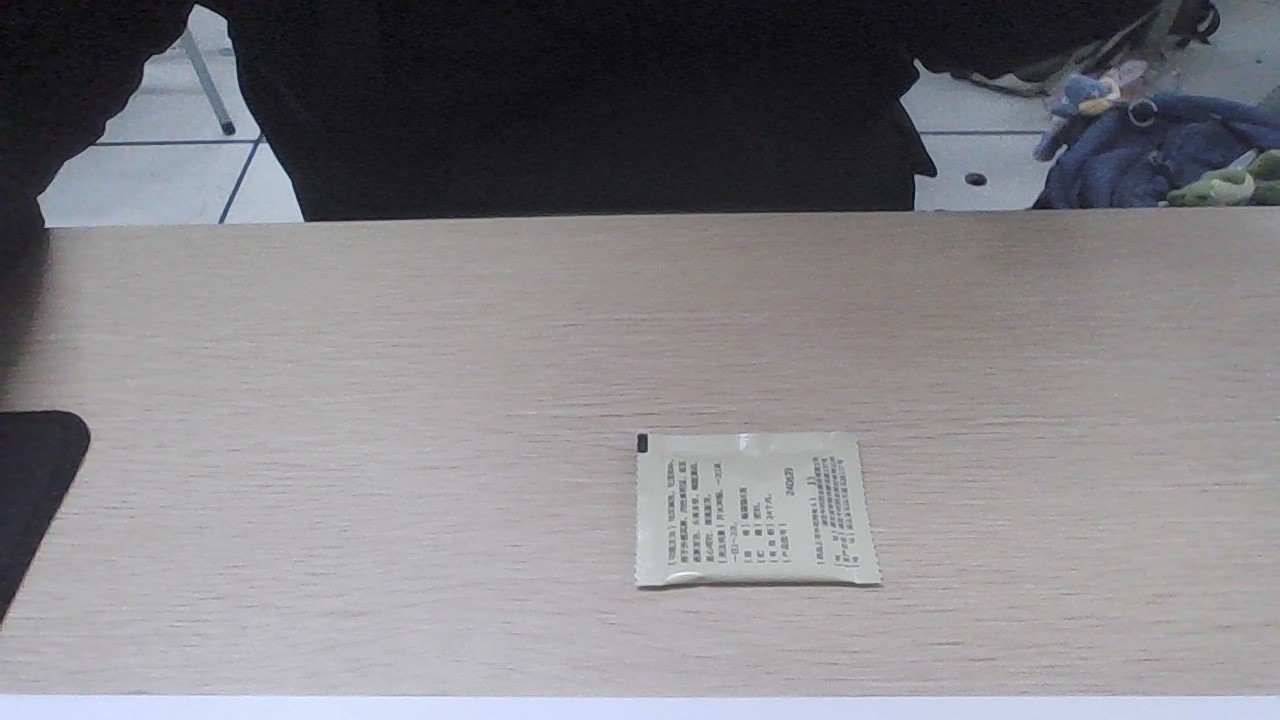YH-yellow medicine: (633, 428, 868, 591)
